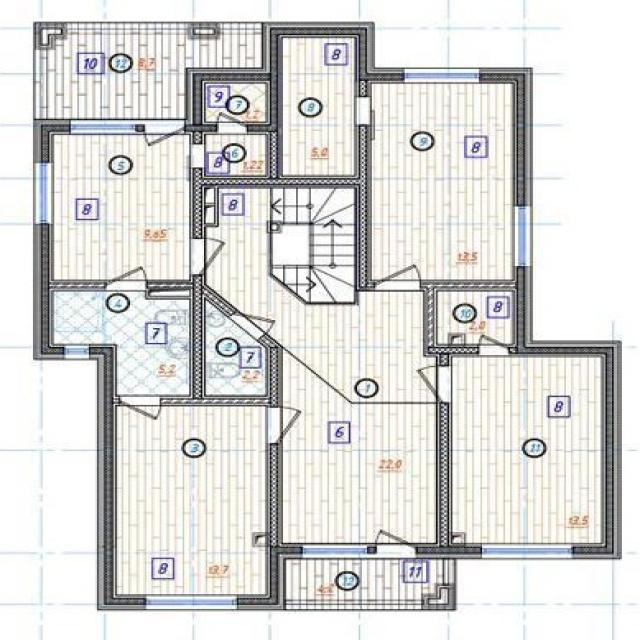Corridors: (206, 188, 436, 403), (48, 33, 261, 119), (52, 292, 190, 394), (283, 38, 353, 175), (285, 559, 443, 599), (205, 301, 266, 396), (438, 292, 512, 344), (205, 134, 266, 175), (205, 84, 266, 122)
Doors: (190, 236, 230, 275), (267, 406, 306, 444), (414, 364, 452, 403), (230, 310, 279, 340), (374, 262, 423, 292), (141, 118, 186, 149), (374, 527, 417, 559), (119, 395, 164, 423), (104, 265, 147, 291), (476, 331, 510, 356), (215, 109, 247, 134), (356, 98, 371, 125), (190, 144, 205, 168)
LBwalls: (508, 266, 622, 560), (185, 22, 405, 134), (88, 344, 144, 611), (477, 66, 533, 207), (236, 543, 303, 611), (33, 223, 64, 361), (32, 119, 70, 163), (415, 542, 482, 560), (33, 21, 69, 49), (422, 585, 457, 612), (188, 22, 221, 40)
Offices: (284, 350, 436, 543), (118, 406, 266, 594), (453, 357, 601, 543), (372, 83, 512, 279), (56, 135, 188, 279)
Stairs: (267, 188, 358, 306)
Walls: (188, 125, 376, 292), (146, 274, 283, 408), (420, 279, 516, 367), (435, 401, 451, 543), (266, 443, 283, 544), (287, 600, 422, 611), (68, 22, 190, 34), (34, 49, 47, 118), (53, 279, 106, 292), (223, 22, 262, 34), (443, 560, 456, 585), (355, 80, 371, 97), (191, 134, 205, 144)
Windows: (145, 593, 238, 611), (481, 543, 573, 560), (32, 163, 54, 223), (513, 206, 531, 267), (69, 118, 135, 134), (301, 543, 367, 559), (404, 68, 478, 82), (65, 344, 88, 361)
